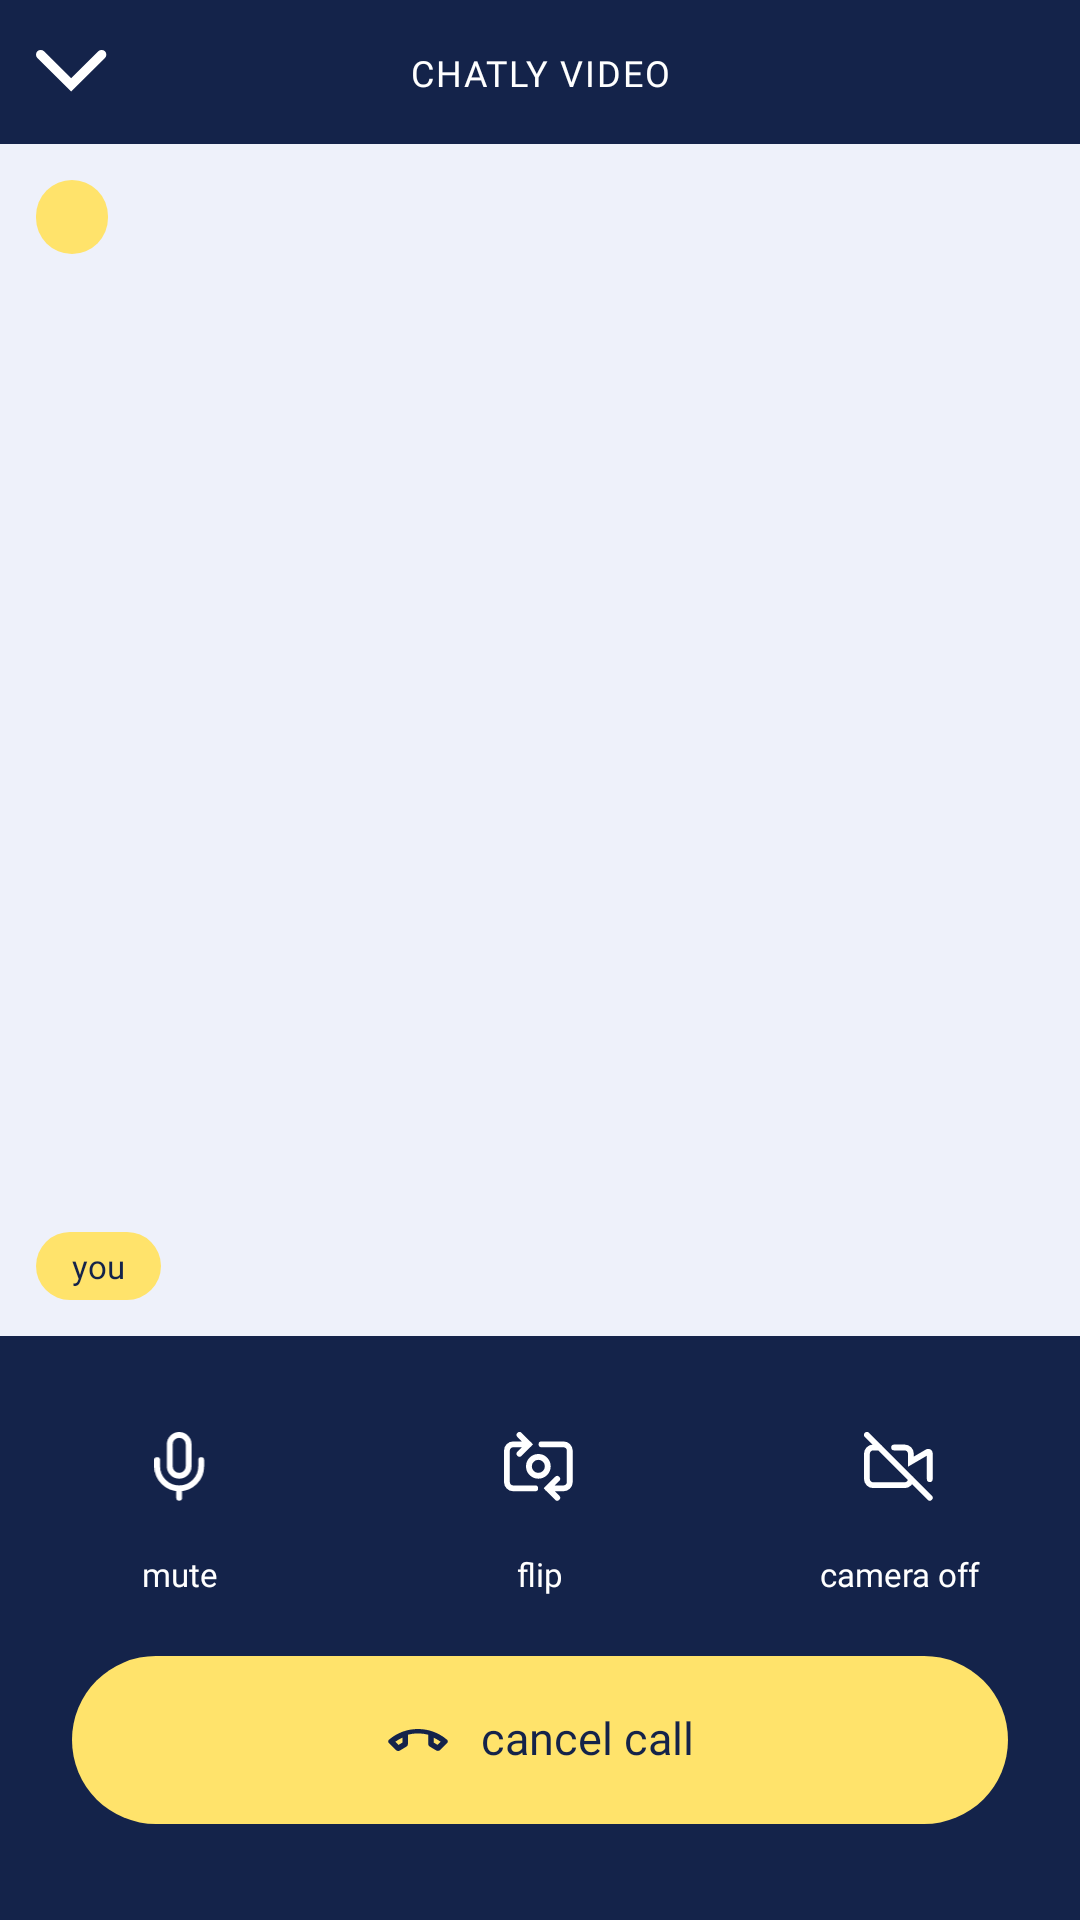

Point at icon controls on the screen. Image size 1080px×1920px, points as (x,y).
call decline: (418,1740)
chevron down: (71,71)
